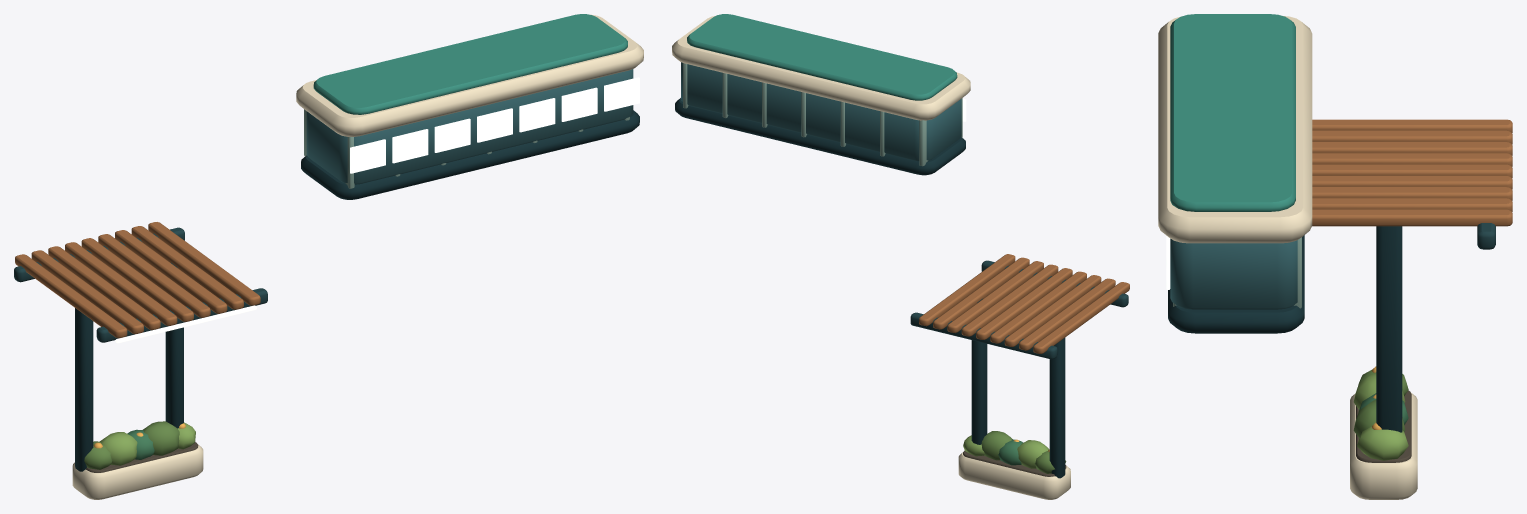
File: stage_5.glb
The picture shows the model from 3 angles, left to right: view 1: azimuth 30°, elevation 25°; view 2: azimuth 150°, elevation 25°; view 3: azimuth 270°, elevation 25°; orthographic projection. The views are drawn at different scales.
Visible parts, largest first — view 1: Stage_5; view 2: Stage_5; view 3: Stage_5.
Boxes of the visible parts, x1,y1,x2,y2 form: Stage_5: (14,14,643,499); Stage_5: (672,14,1129,499); Stage_5: (1158,14,1512,499).
Bounding box in the file's own units: 7.59 × 5.48 × 3.24.
